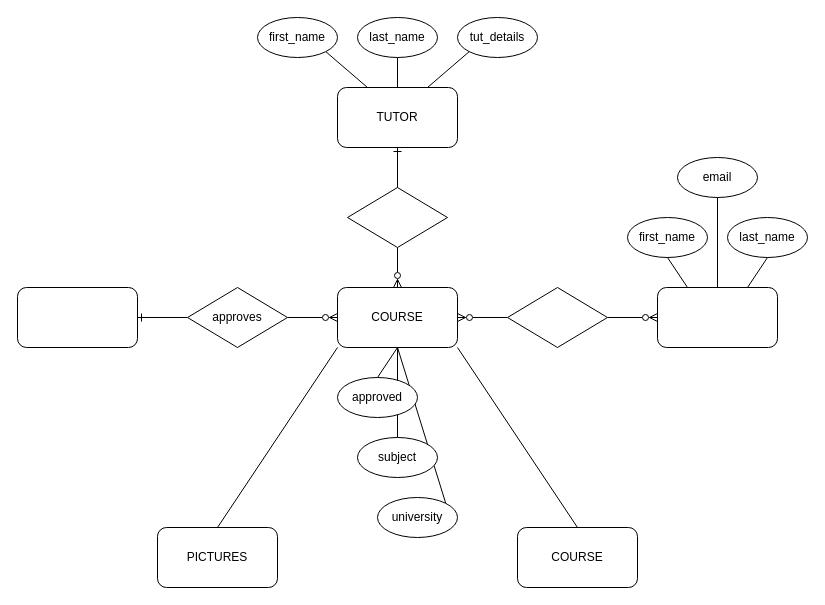
The diagram is 825 pixels wide and 605 high, and some of its shapes have lost their labels. The shapes that lost their labels are listed below. From the top down, each one's box as (x1, y1, x2, y2) in pixels, then its label:
(346, 186, 448, 248): offers
(16, 286, 138, 348): ADMIN
(506, 286, 608, 348): books + reviews
(656, 286, 778, 348): STUDENT
